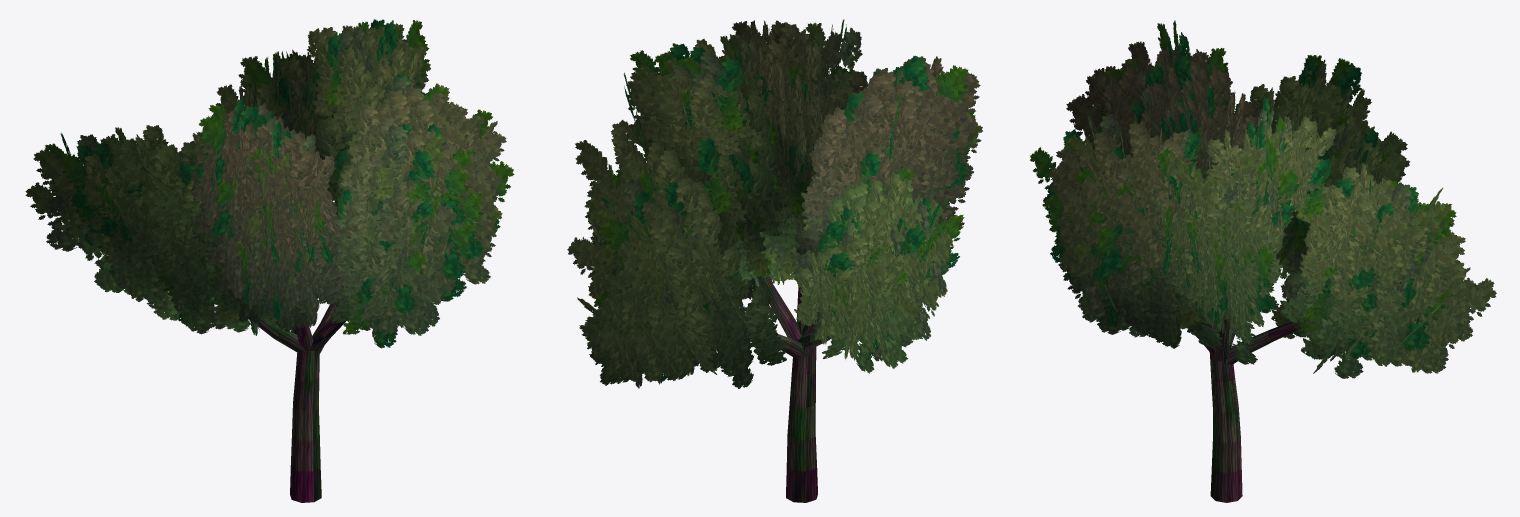
Rendered from nat_oak_c_LOD0.glb.
3 renders of one model, left to right at view 1: azimuth 30°, elevation 25°; view 2: azimuth 150°, elevation 25°; view 3: azimuth 270°, elevation 25°, orthographic. The views are drawn at different scales.
Parts seen in each view (by area): view 1: nat_oak_c_LOD0; view 2: nat_oak_c_LOD0; view 3: nat_oak_c_LOD0.
Boxes of the visible parts, bbox=[...] form: nat_oak_c_LOD0: bbox=[25, 19, 514, 502]; nat_oak_c_LOD0: bbox=[567, 19, 982, 502]; nat_oak_c_LOD0: bbox=[1030, 20, 1496, 502].
Size of the model in its own units: 9.23 by 10.02 by 10.32.
2 materials, 2 textured.
